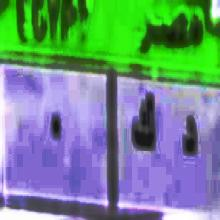0: (44, 96, 66, 154)
daal: (174, 109, 198, 169)
kaaf: (131, 90, 159, 160)
